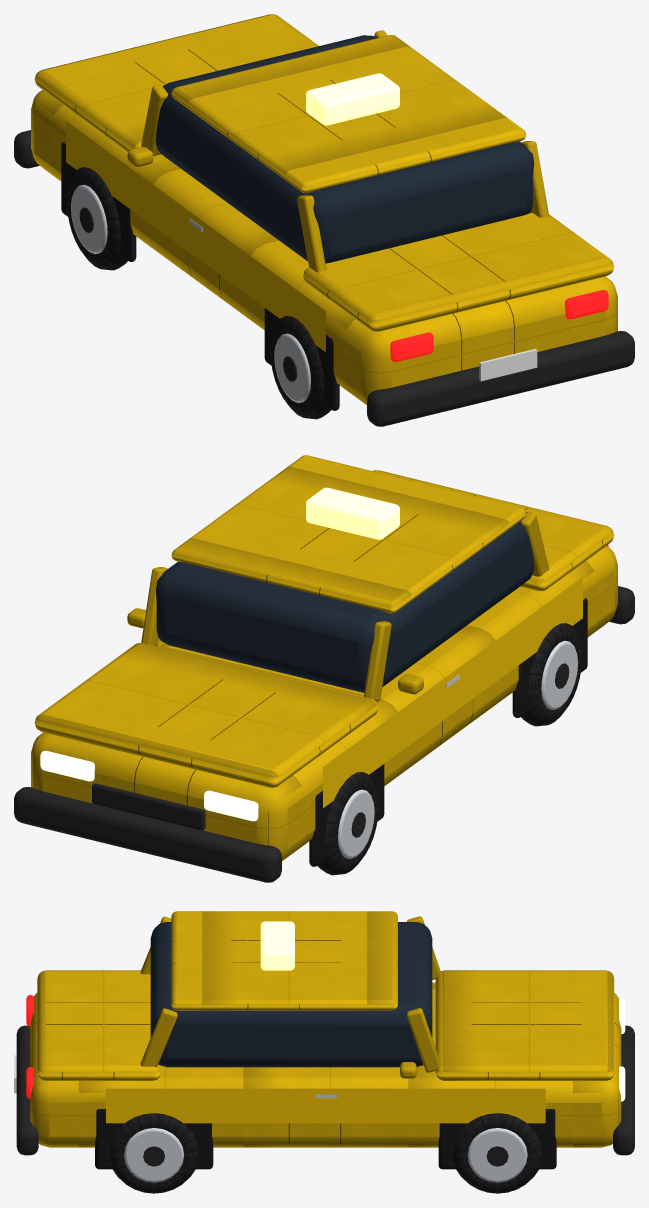
File: car_taxi.glb
The picture shows the model from 3 angles, top to bottom: view 1: azimuth 30°, elevation 25°; view 2: azimuth 150°, elevation 25°; view 3: azimuth 270°, elevation 25°; orthographic projection. The views are drawn at different scales.
Parts seen in each view (by area): view 1: Body, WheelFL, WheelBL, Taillights; view 2: Body, WheelBL, WheelFL; view 3: Body, WheelBR, WheelFR, Taillights.
Part boxes in pixels (<box>): Body: <box>14,14,634,426</box>; WheelFL: <box>67,167,127,270</box>; WheelBL: <box>270,316,331,419</box>; Taillights: <box>390,290,608,361</box>; Body: <box>14,455,634,882</box>; WheelBL: <box>521,623,581,726</box>; WheelFL: <box>317,772,378,875</box>; Body: <box>14,911,634,1169</box>; WheelBR: <box>109,1113,198,1193</box>; WheelFR: <box>453,1113,541,1193</box>; Taillights: <box>26,995,34,1098</box>.
Bounding box in the file's own units: 2.06 × 1.66 × 4.52.
Materials: 11 (3 with a texture image).
